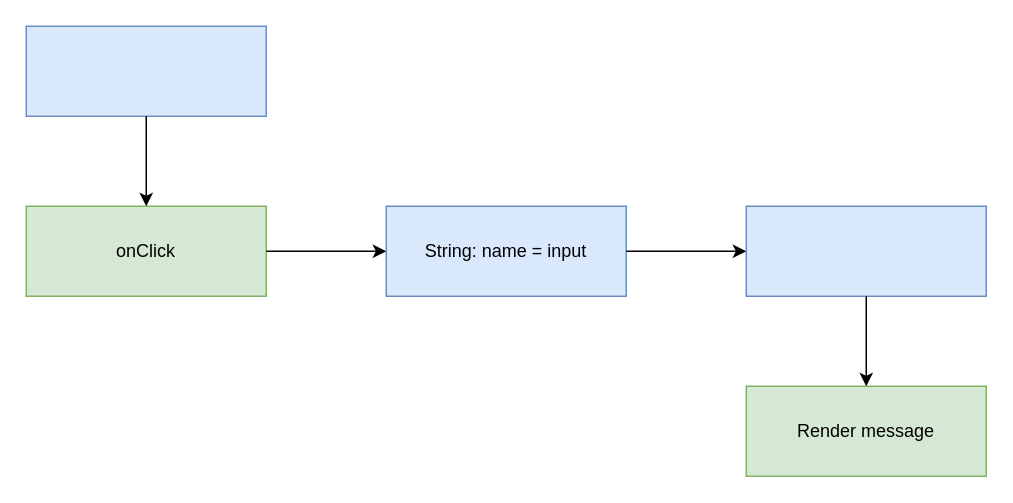
The diagram is 1013 pixels wide and 503 high, and some of its shapes have lost their labels. Here are the shapes that lost their labels. From the top down, the centre of each, then its label:
[145,70]: String: greeting = "Welcome "
[865,250]: String: message = concat greeting and name
